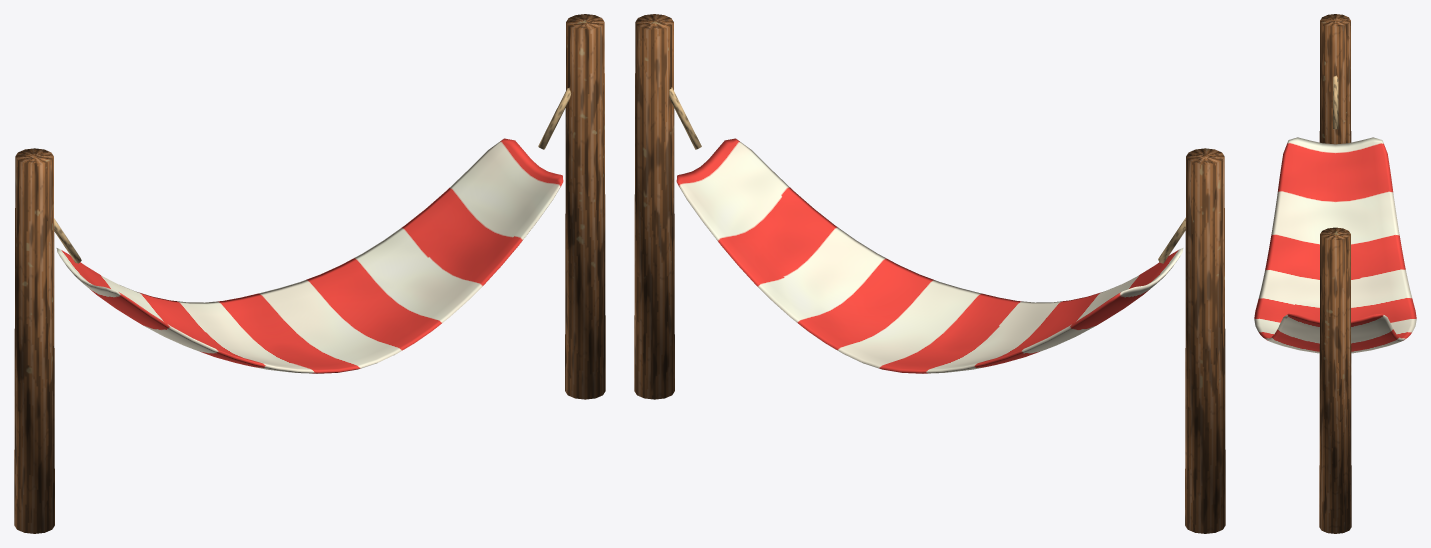
The model's file is hammock.glb.
3 renders of one model, left to right at view 1: azimuth 30°, elevation 25°; view 2: azimuth 150°, elevation 25°; view 3: azimuth 270°, elevation 25°, orthographic. The views are drawn at different scales.
Visible parts, largest first — view 1: Hammock; view 2: Hammock; view 3: Hammock.
Boxes of the visible parts, <box> form: Hammock: <box>14,14,605,533</box>; Hammock: <box>634,14,1225,533</box>; Hammock: <box>1254,14,1416,533</box>.
Bounding box in the file's own units: 2.66 × 1.6 × 0.8042.
Materials: 1 (1 with a texture image).
